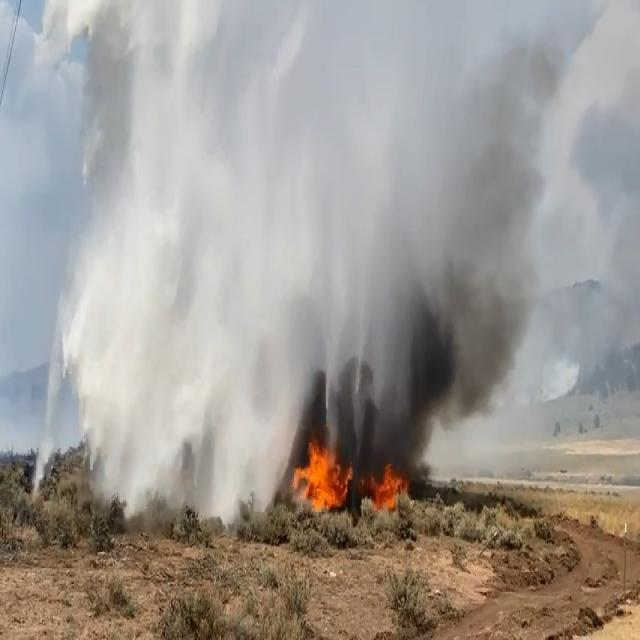Fire: (292, 432, 406, 518)
